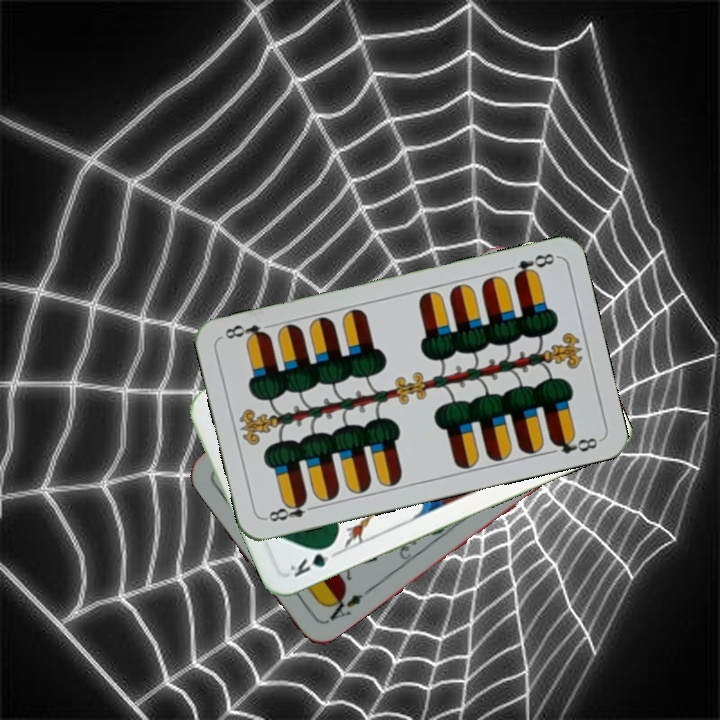E8: (261, 495, 320, 524), (509, 249, 558, 282)
EA: (321, 587, 366, 626)
GK: (285, 540, 337, 580)
